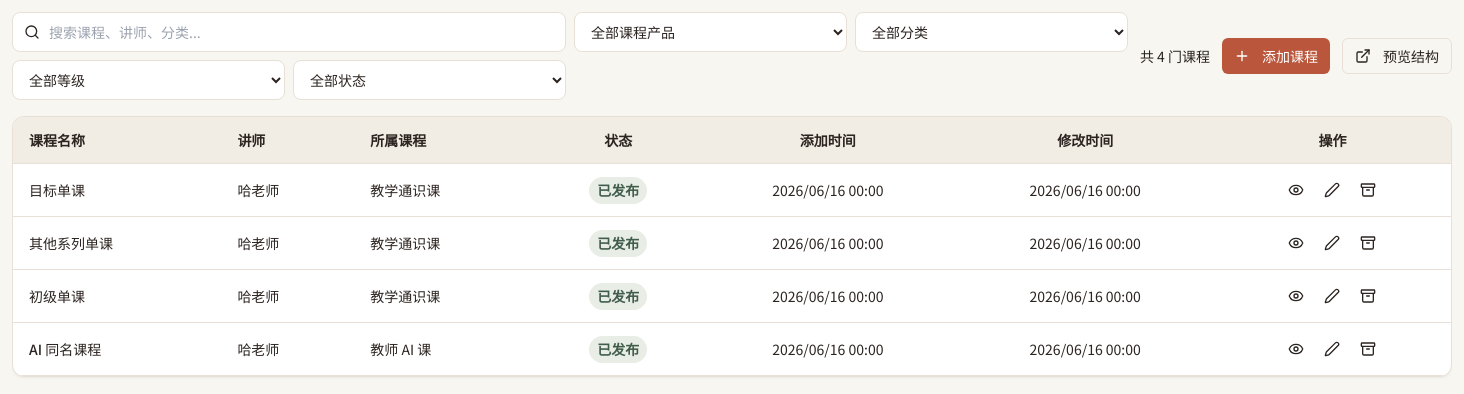
Test: CourseManagementSection › combines product, category and level filters
Check: the text "目标单课" is shown, box [29, 179, 85, 202]
Select "教学通识课" in the dropdown named "筛选课程产品" at coordinates (710, 32), box [574, 12, 847, 52]
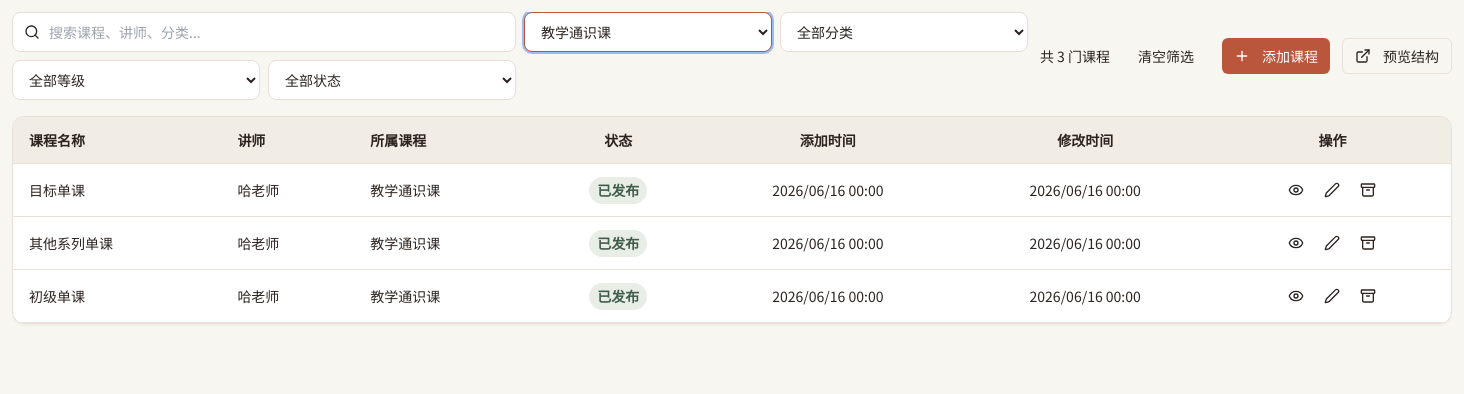
Select "说课篇" in the dropdown named "筛选课程分类" at coordinates (904, 32), box [780, 12, 1028, 52]
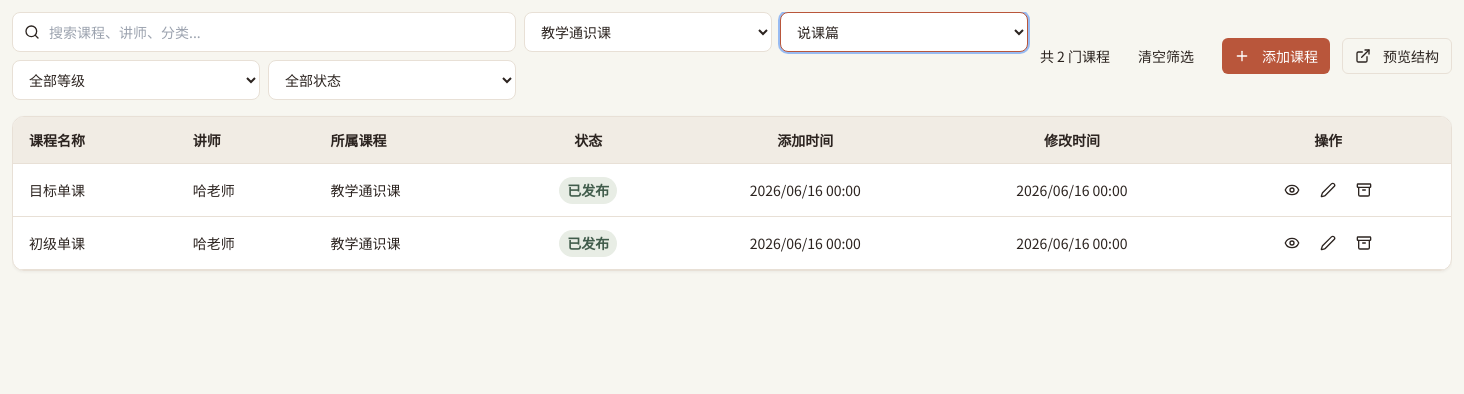
Select "中级" in the dropdown named "筛选课程等级" at coordinates (136, 80), box [12, 60, 260, 100]
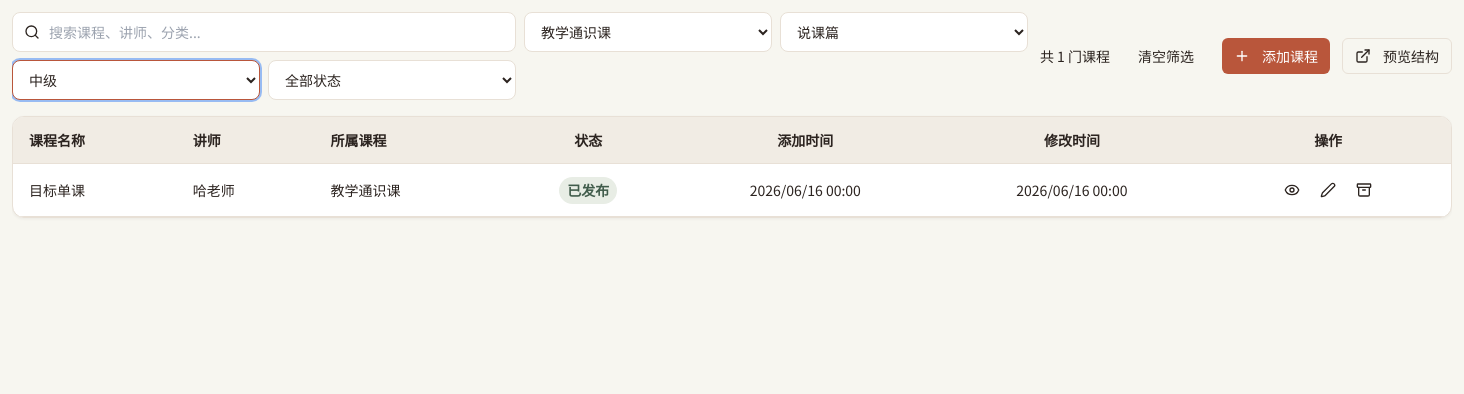
Check: the text "目标单课" is shown, box [29, 179, 85, 202]
Check: the text "初级单课" is gone
Click the button "清空筛选".
click(1166, 56)  # box [1122, 38, 1210, 74]
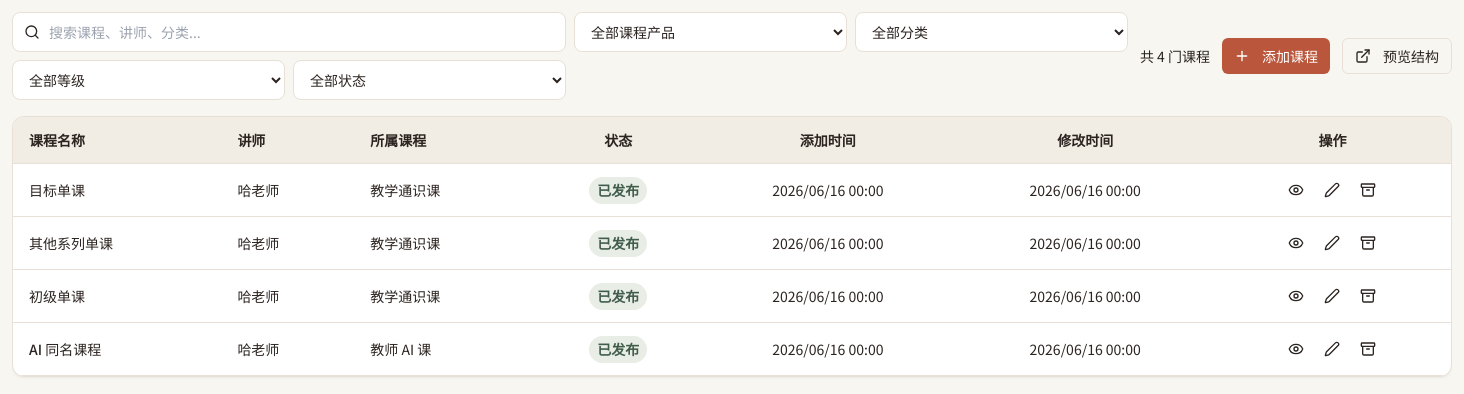
Check: the text "AI 同名课程" is shown, box [29, 338, 101, 361]
